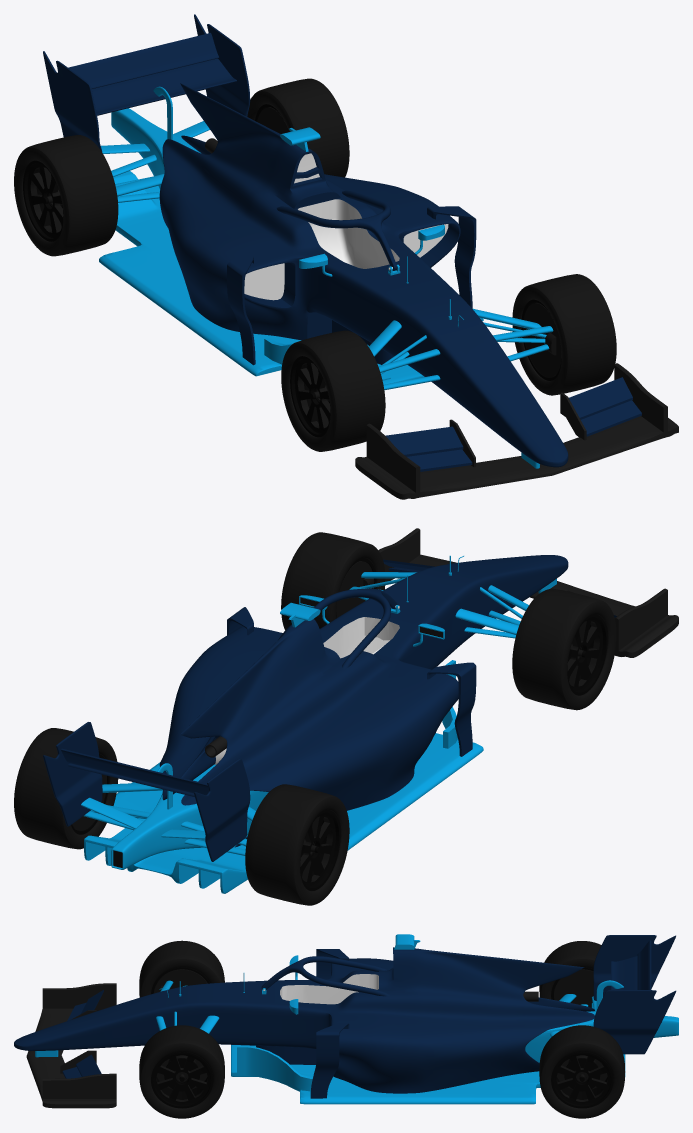
File: Men_accessory_Williams_5000.fbx
3 views of the same model, one above another, from view 1: azimuth 30°, elevation 25°; view 2: azimuth 150°, elevation 25°; view 3: azimuth 270°, elevation 25° (orthographic). The views are drawn at different scales.
Visible parts, largest first — view 1: _gltfNode_0, _gltfNode_3, _gltfNode_13, _gltfNode_16, _gltfNode_4, _gltfNode_2, _gltfNode_10, _gltfNode_1, _gltfNode_14, _gltfNode_17; view 2: _gltfNode_0, _gltfNode_3, _gltfNode_16, _gltfNode_13, _gltfNode_4, _gltfNode_17, _gltfNode_14, _gltfNode_2, _gltfNode_10; view 3: _gltfNode_0, _gltfNode_3, _gltfNode_13, _gltfNode_4, _gltfNode_16, _gltfNode_10, _gltfNode_14, _gltfNode_17, _gltfNode_2, _gltfNode_9.
Boxes of the visible parts, <box> form: _gltfNode_0: <box>43,14,641,471</box>; _gltfNode_3: <box>99,86,553,468</box>; _gltfNode_13: <box>281,274,616,451</box>; _gltfNode_16: <box>14,78,349,256</box>; _gltfNode_4: <box>355,363,678,499</box>; _gltfNode_2: <box>298,199,399,268</box>; _gltfNode_10: <box>47,107,561,401</box>; _gltfNode_1: <box>244,153,448,300</box>; _gltfNode_14: <box>290,299,561,437</box>; _gltfNode_17: <box>23,104,284,241</box>; _gltfNode_0: <box>43,555,616,861</box>; _gltfNode_3: <box>81,555,556,893</box>; _gltfNode_16: <box>14,728,349,905</box>; _gltfNode_13: <box>281,532,616,710</box>; _gltfNode_4: <box>378,528,678,657</box>; _gltfNode_17: <box>71,754,340,890</box>; _gltfNode_14: <box>336,558,607,695</box>; _gltfNode_2: <box>323,617,399,658</box>; _gltfNode_10: <box>72,561,583,855</box>; _gltfNode_0: <box>14,935,676,1098</box>; _gltfNode_3: <box>35,934,678,1104</box>; _gltfNode_13: <box>139,940,224,1118</box>; _gltfNode_4: <box>26,983,116,1108</box>; _gltfNode_16: <box>539,941,625,1118</box>; _gltfNode_10: <box>153,969,607,1089</box>; _gltfNode_14: <box>151,967,213,1108</box>; _gltfNode_17: <box>551,967,613,1108</box>; _gltfNode_2: <box>280,974,378,1004</box>; _gltfNode_9: <box>164,1058,600,1091</box>.
Size of the model in its own units: 170 by 99.25 by 463.
